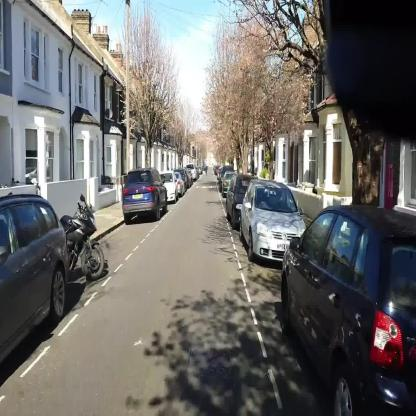car: (282, 204, 416, 416), (0, 194, 68, 376), (239, 179, 306, 264), (122, 168, 167, 224), (225, 175, 259, 228), (159, 170, 178, 204), (175, 171, 185, 197)
motorcycle: (59, 192, 106, 278)
